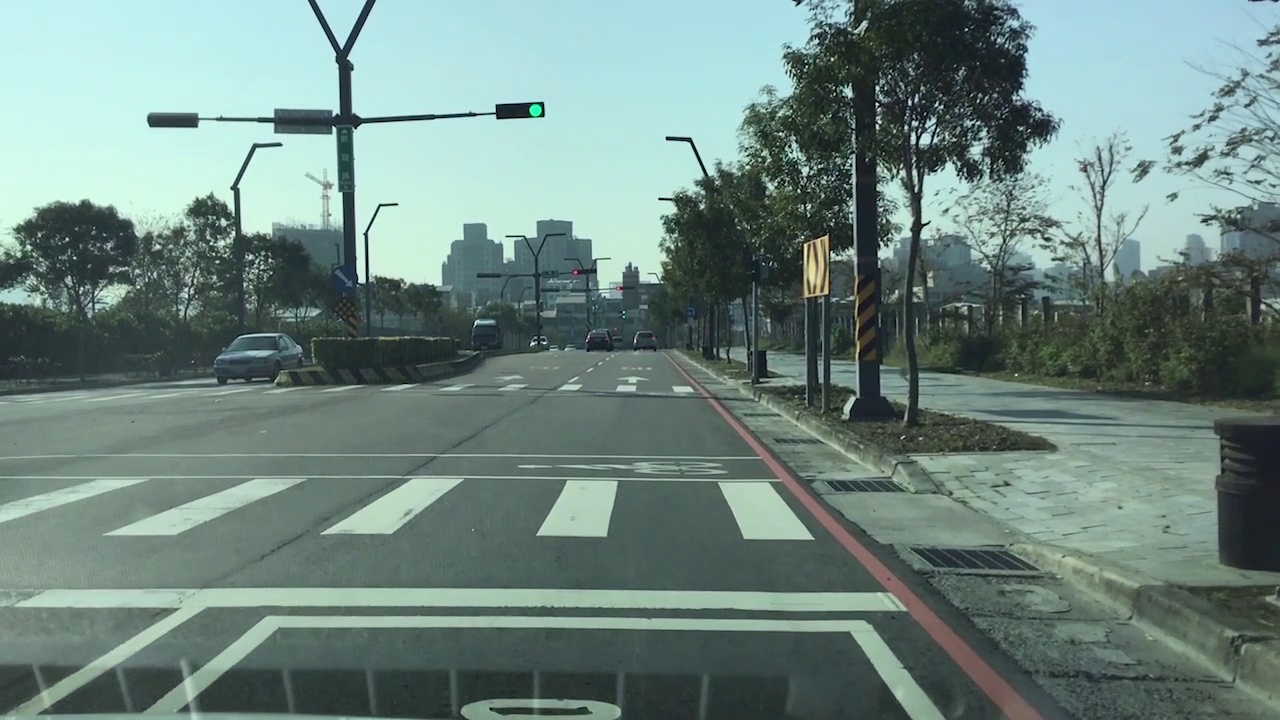Pedestrian_Crossing: (0, 605, 1015, 720), (0, 472, 798, 544), (45, 375, 706, 392)
